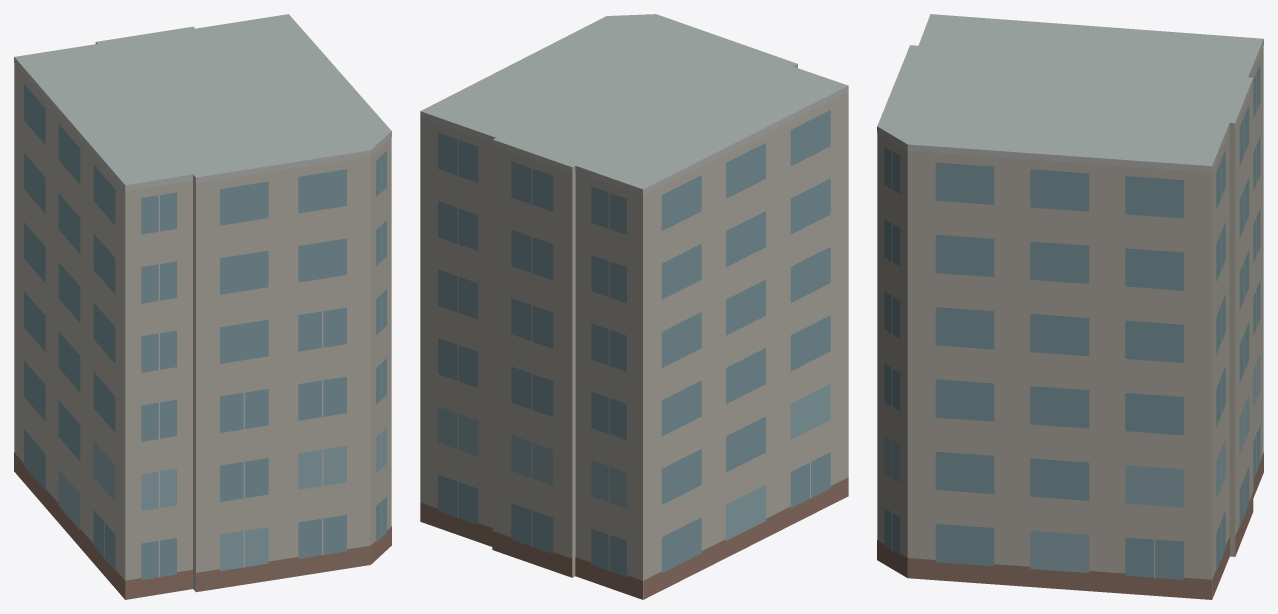
File: survey-upis-32741753.glb
3 views of the same model, side by side, from view 1: azimuth 30°, elevation 25°; view 2: azimuth 150°, elevation 25°; view 3: azimuth 270°, elevation 25° (orthographic). The views are drawn at different scales.
Parts seen in each view (by area): view 1: survey-upis-32741753.tmp; view 2: survey-upis-32741753.tmp; view 3: survey-upis-32741753.tmp.
Boxes of the visible parts, x1,y1,x2,y2 form: survey-upis-32741753.tmp: [14, 14, 391, 599]; survey-upis-32741753.tmp: [420, 14, 848, 599]; survey-upis-32741753.tmp: [877, 14, 1263, 599].
Size of the model in its own units: 12.58 by 16.7 by 13.5.
